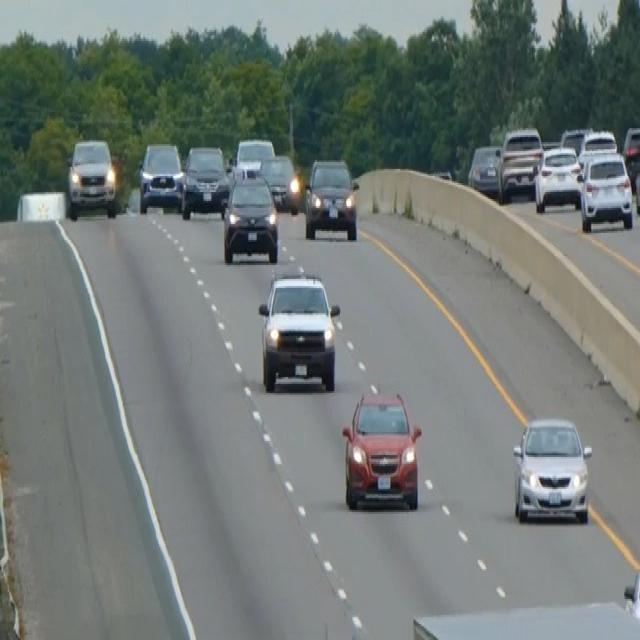car: (257, 268, 340, 393), (341, 388, 422, 510), (512, 414, 592, 524), (222, 171, 279, 263), (303, 156, 359, 240), (578, 149, 633, 231), (66, 137, 117, 219), (181, 142, 230, 219), (138, 140, 184, 213), (498, 125, 543, 198), (534, 144, 582, 212), (258, 153, 300, 213), (467, 142, 502, 198), (231, 135, 275, 178), (578, 128, 617, 164), (622, 124, 639, 188), (560, 125, 589, 156), (635, 149, 639, 219)
